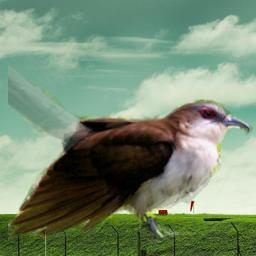Cuckoo: (8, 7, 253, 247)
